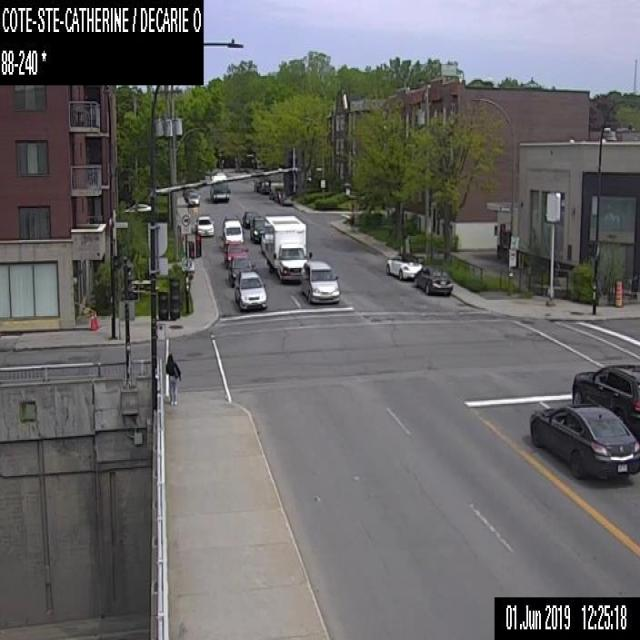bus: (209, 172, 230, 202)
construction: (614, 280, 622, 305), (90, 311, 98, 329)
pedestrian: (164, 352, 180, 404)
vehicle: (529, 404, 639, 480), (571, 363, 639, 426), (262, 214, 312, 282), (300, 260, 339, 301), (234, 269, 266, 310), (415, 264, 453, 294), (386, 252, 422, 278), (225, 255, 254, 286), (224, 240, 248, 266), (222, 219, 243, 244), (269, 186, 293, 204), (249, 215, 264, 243), (252, 175, 270, 193), (196, 216, 214, 234), (242, 210, 258, 228), (188, 191, 199, 204)
